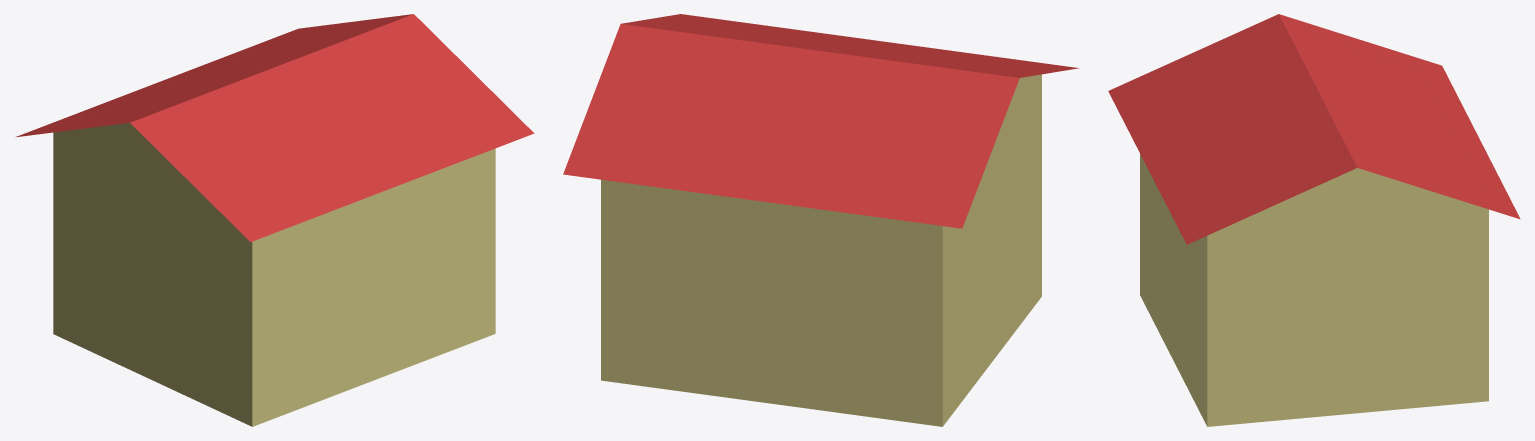
The picture shows the model from 3 angles, left to right: view 1: azimuth 30°, elevation 25°; view 2: azimuth 150°, elevation 25°; view 3: azimuth 270°, elevation 25°; orthographic projection. The views are drawn at different scales.
Bounding box in the file's own units: 12.2 × 11.54 × 7.93.
